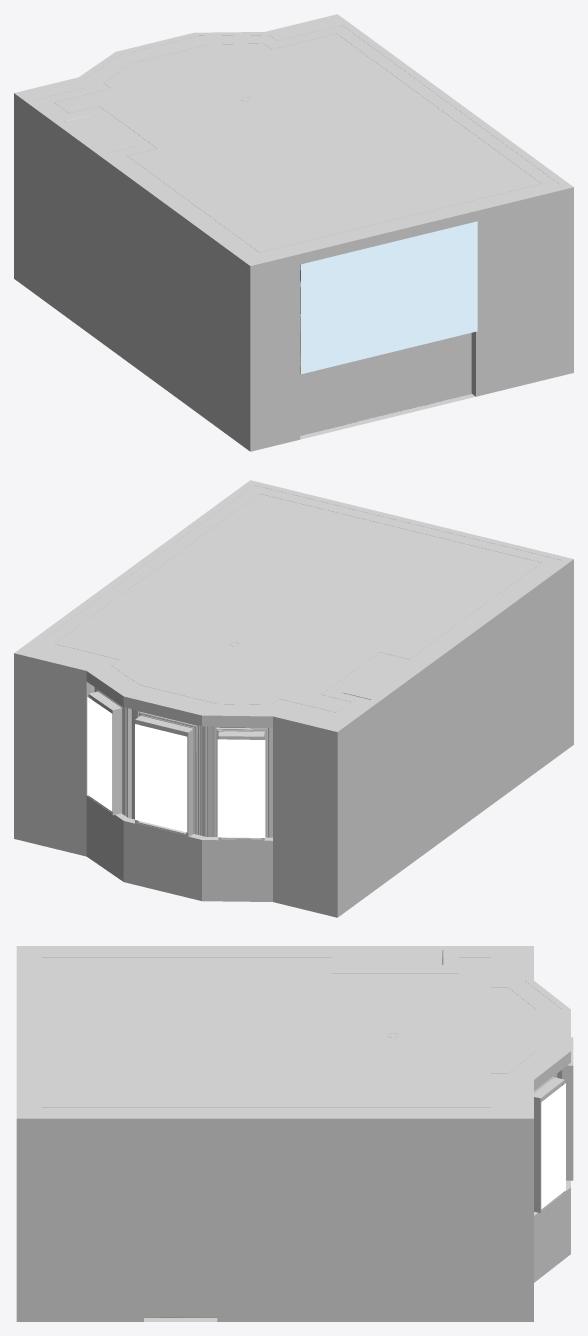
The model's file is the-white-room-lights.gltf.
The picture shows the model from 3 angles, top to bottom: view 1: azimuth 30°, elevation 25°; view 2: azimuth 150°, elevation 25°; view 3: azimuth 270°, elevation 25°; orthographic projection. The views are drawn at different scales.
Parts seen in each view (by area): view 1: Walls, Ceiling, Rear-Window-Mesh-Emiiter; view 2: Walls, Ceiling, Middle-Window-Mesh-Emiiter, Left-Window-Mesh-Emiiter, Window-panel-Middle, Window-panel-Left, Window-panel-Right, Right-Window-Mesh-Emiiter; view 3: Walls, Ceiling, Right-Window-Mesh-Emiiter, Window-panel-Right, Window-panel-Middle, Cornis.
Part boxes in pixels (x1,y1,x2,y2): Walls: (14,14,573,451); Ceiling: (34,25,561,260); Rear-Window-Mesh-Emiiter: (301,221,477,374); Walls: (14,480,573,917); Ceiling: (34,485,561,720); Middle-Window-Mesh-Emiiter: (135,724,187,832); Left-Window-Mesh-Emiiter: (217,739,265,837); Window-panel-Middle: (127,708,205,837); Window-panel-Left: (206,726,272,841); Window-panel-Right: (88,685,131,818); Right-Window-Mesh-Emiiter: (87,697,112,811); Walls: (16,946,570,1321); Ceiling: (26,950,561,1114); Right-Window-Mesh-Emiiter: (541,1083,565,1208); Window-panel-Right: (534,1070,564,1213); Window-panel-Middle: (557,1037,573,1180); Cornis: (42,956,534,1107).
Bounding box in the file's own units: 5.73 × 3.14 × 7.85.
Materials: 84 (15 with a texture image).
